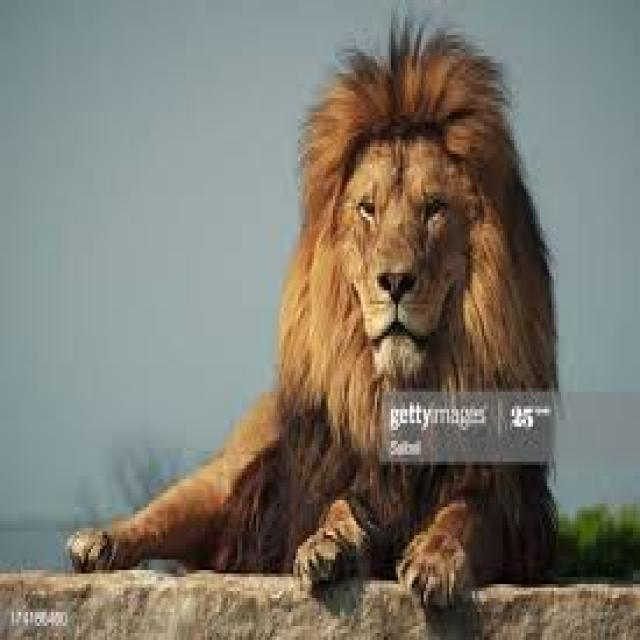Lion: (69, 20, 563, 603)
